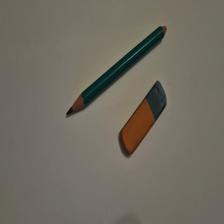eraser: (121, 81, 168, 155)
pencil: (67, 26, 168, 116)
